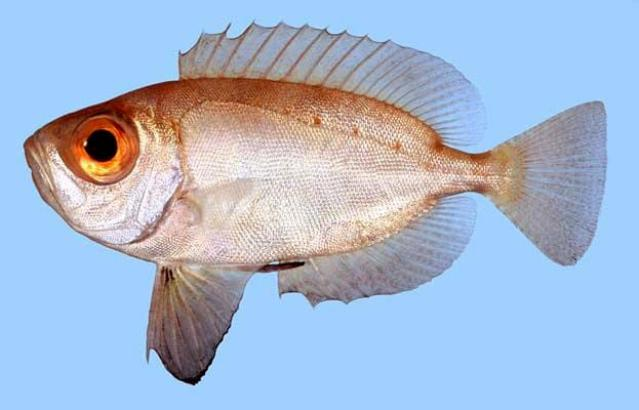Mulut: (13, 123, 72, 210)
Sirip Anal: (277, 192, 479, 316)
Sirip Dada: (181, 173, 263, 235)
Sirip Ekor: (488, 94, 614, 274)
Sirip Perut: (144, 254, 258, 394)
Sirip Punggung: (170, 15, 492, 149)
